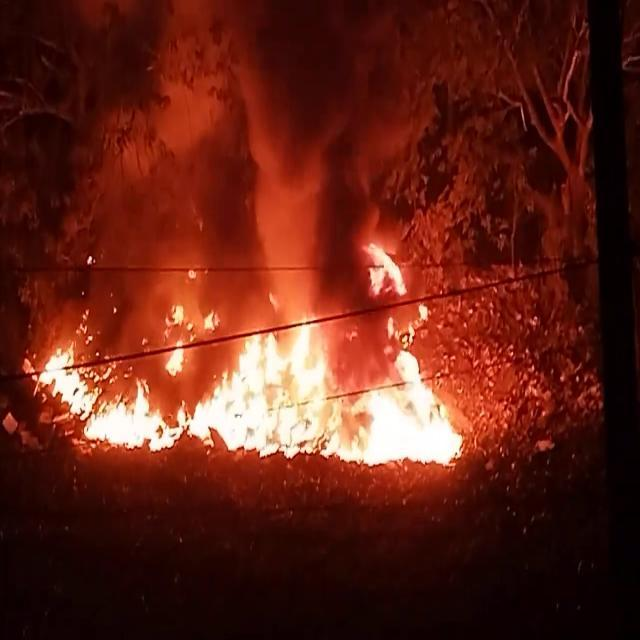Fire: (28, 247, 490, 480)
Smoke: (65, 0, 472, 277)
